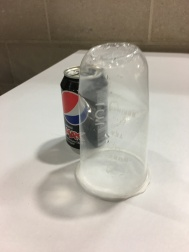can_black: (53, 62, 116, 156)
